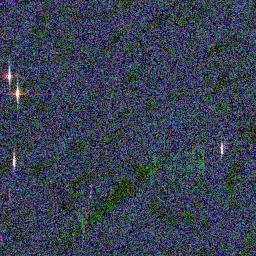Ship: (3, 68, 15, 84), (10, 148, 18, 172), (13, 85, 22, 104), (219, 138, 226, 160)
